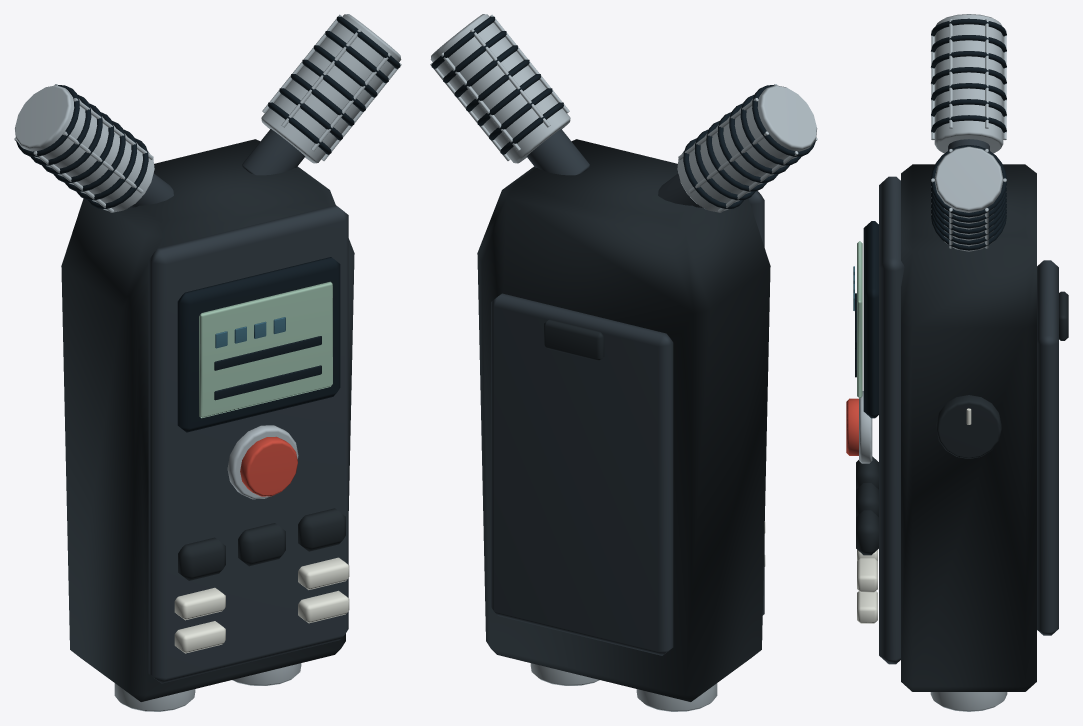
The model's file is P060_audio_recorder_rebuilt.glb.
The picture shows the model from 3 angles, left to right: view 1: azimuth 30°, elevation 25°; view 2: azimuth 150°, elevation 25°; view 3: azimuth 270°, elevation 25°; orthographic projection. The views are drawn at different scales.
Parts seen in each view (by area): view 1: Molded_rubber_contact_pads, Graphite_molded_housing, Satin_aluminum_fittings, Recess_and_speaker_cloth, LCD_readable_segments, Ivory_control_caps, Safety_red_control, LCD_blue_grey_glass; view 2: Molded_rubber_contact_pads, Graphite_molded_housing, Satin_aluminum_fittings, Recess_and_speaker_cloth; view 3: Molded_rubber_contact_pads, Graphite_molded_housing, Satin_aluminum_fittings, Recess_and_speaker_cloth, Ivory_control_caps, LCD_readable_segments, Safety_red_control.
Boxes of the visible parts, x1=… form: Molded_rubber_contact_pads: x1=61, y1=139, x2=354, y2=701; Graphite_molded_housing: x1=128, y1=129, x2=348, y2=683; Satin_aluminum_fittings: x1=14, y1=14, x2=401, y2=711; Recess_and_speaker_cloth: x1=16, y1=16, x2=400, y2=432; LCD_readable_segments: x1=199, y1=281, x2=332, y2=418; Ivory_control_caps: x1=174, y1=557, x2=349, y2=653; Safety_red_control: x1=240, y1=436, x2=297, y2=496; LCD_blue_grey_glass: x1=215, y1=317, x2=285, y2=348; Molded_rubber_contact_pads: x1=477, y1=139, x2=770, y2=701; Graphite_molded_housing: x1=491, y1=129, x2=764, y2=655; Satin_aluminum_fittings: x1=430, y1=14, x2=817, y2=711; Recess_and_speaker_cloth: x1=431, y1=16, x2=815, y2=208; Molded_rubber_contact_pads: x1=856, y1=164, x2=1068, y2=691; Graphite_molded_housing: x1=879, y1=139, x2=1058, y2=664; Satin_aluminum_fittings: x1=859, y1=14, x2=1007, y2=711; Recess_and_speaker_cloth: x1=855, y1=18, x2=1006, y2=418; Ivory_control_caps: x1=857, y1=408, x2=971, y2=623; LCD_readable_segments: x1=857, y1=241, x2=862, y2=398; Safety_red_control: x1=846, y1=398, x2=858, y2=455.
Bounding box in the file's own units: 0.2116 × 0.3431 × 0.116.
